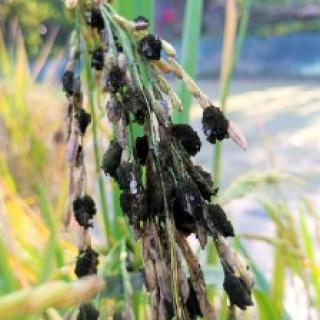Gosong-Palsu: (200, 99, 239, 149), (73, 246, 111, 281), (135, 35, 176, 67), (69, 192, 100, 230), (97, 138, 127, 177), (54, 69, 76, 95), (85, 8, 106, 32)
